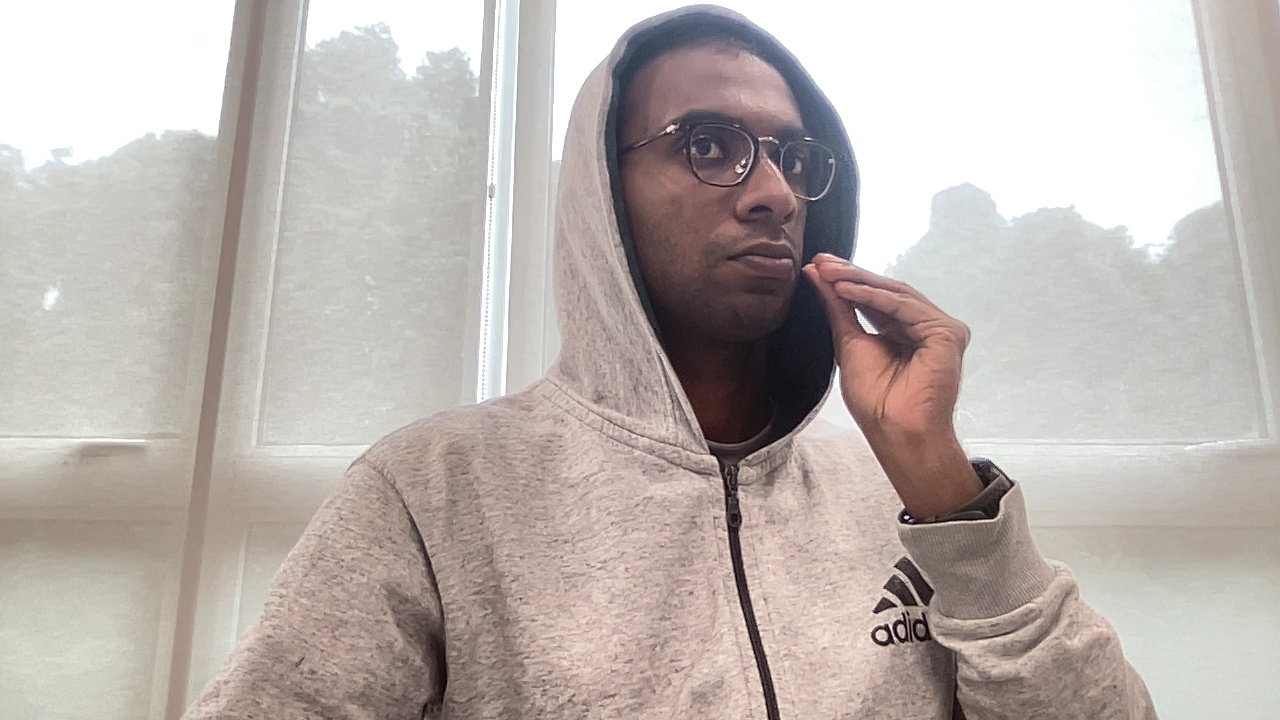eat: (795, 244, 980, 440)
